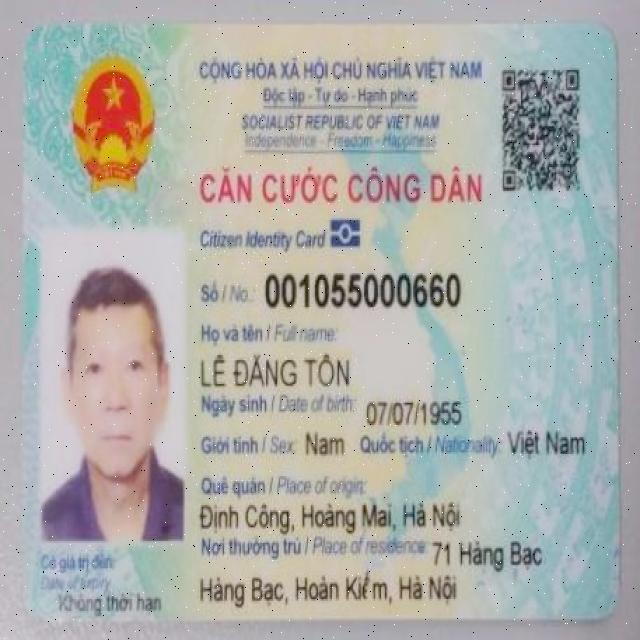current_place: (197, 567, 464, 606), (425, 535, 545, 572)
dob: (362, 398, 468, 429)
expire_date: (57, 589, 166, 619)
gender: (301, 422, 348, 459)
id: (266, 267, 461, 308)
name: (200, 349, 353, 388)
nationality: (502, 424, 589, 462)
origin_place: (197, 500, 465, 537)
qr: (496, 62, 586, 196)
